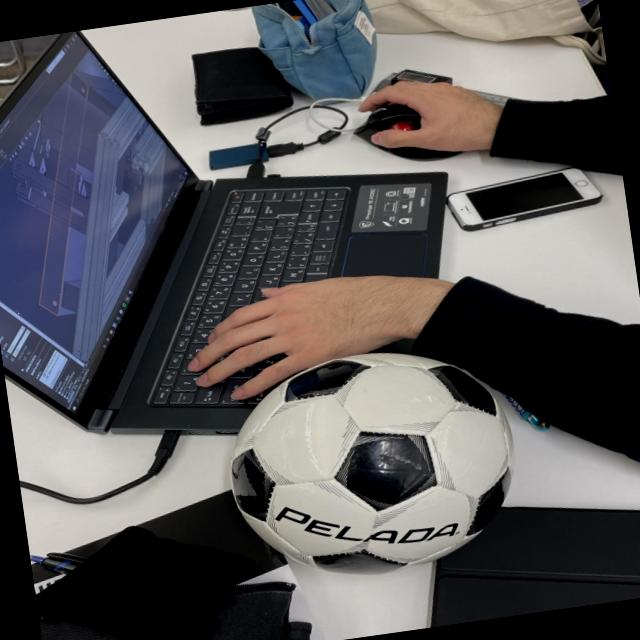Soccer Ball: (212, 338, 529, 594)
